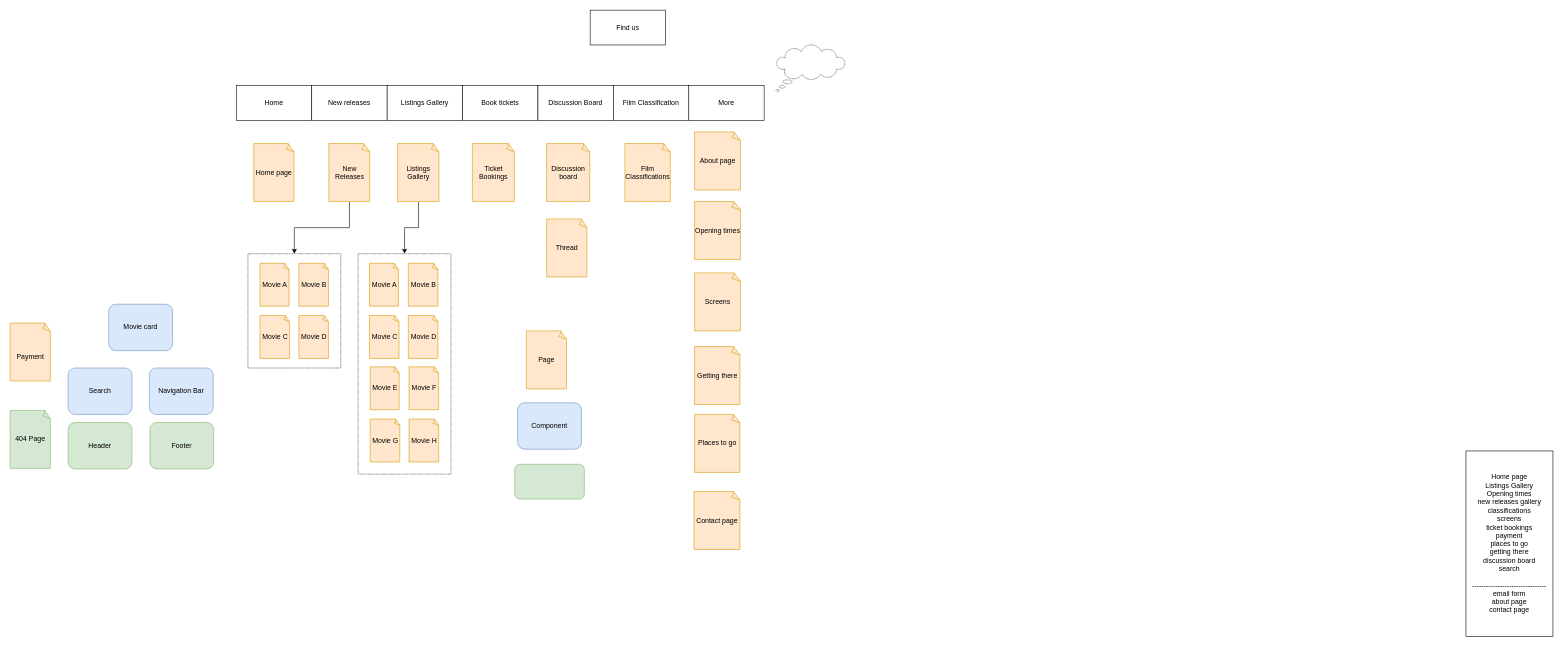
The diagram is 1563 pixels wide and 647 high, and some of its shapes have lost their labels. Here are the shapes that lost their labels. From the top down, the centre of each, then its label:
(x=810, y=67): Navbar
(x=549, y=481): NOT MVP
